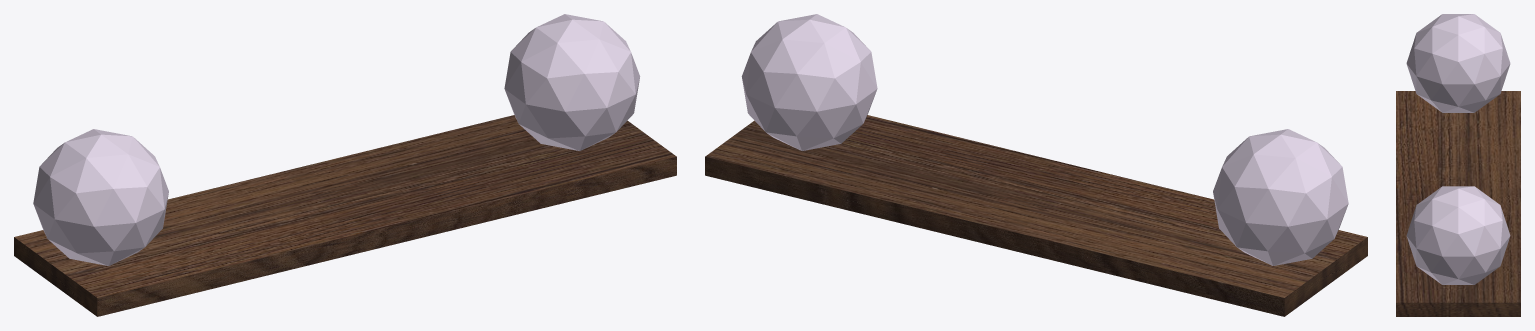
Rendered from plank.glb.
The picture shows the model from 3 angles, left to right: view 1: azimuth 30°, elevation 25°; view 2: azimuth 150°, elevation 25°; view 3: azimuth 270°, elevation 25°; orthographic projection. The views are drawn at different scales.
Visible parts, largest first — view 1: Cube.001, Icosphere, Icosphere.001; view 2: Cube.001, Icosphere, Icosphere.001; view 3: Cube.001, Icosphere, Icosphere.001.
Part boxes in pixels (left/top/right/bottom): Cube.001: left=14, top=115, right=676, bottom=316; Icosphere: left=33, top=129, right=168, bottom=265; Icosphere.001: left=504, top=14, right=640, bottom=150; Cube.001: left=705, top=115, right=1367, bottom=316; Icosphere: left=1213, top=129, right=1348, bottom=265; Icosphere.001: left=741, top=14, right=877, bottom=150; Cube.001: left=1396, top=91, right=1520, bottom=316; Icosphere: left=1406, top=14, right=1510, bottom=112; Icosphere.001: left=1406, top=186, right=1510, bottom=284.
Bounding box in the file's own units: 2.04 × 0.4643 × 0.4982.
Materials: 2 (1 with a texture image).
